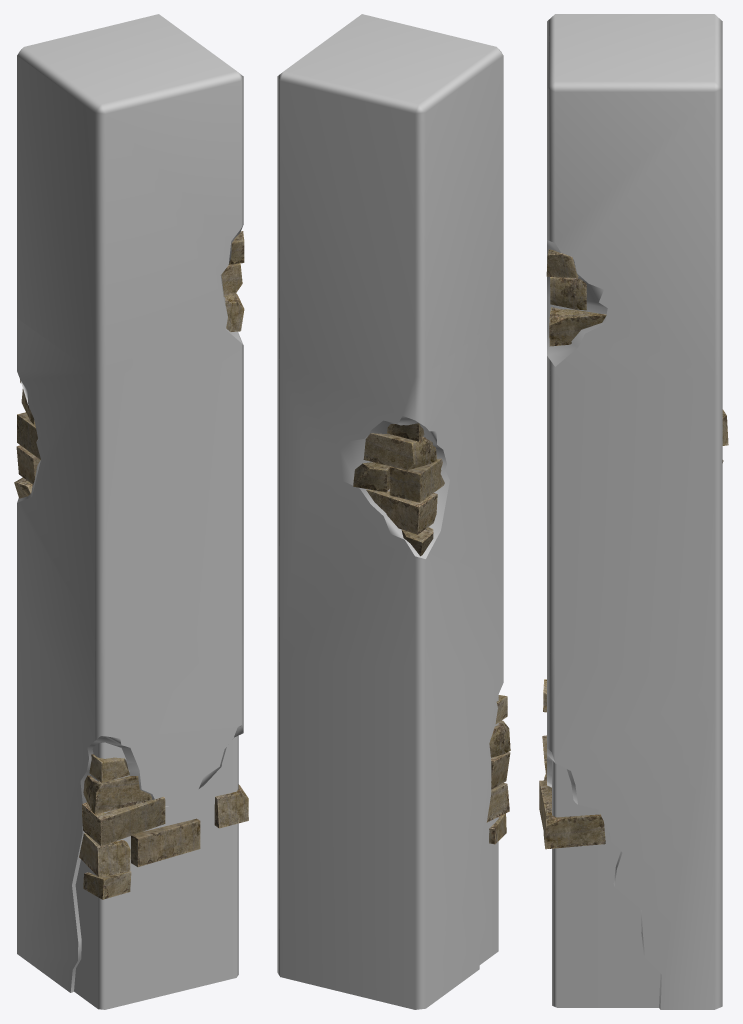
File: Wall1_el9.fbx
3 views of the same model, side by side, from view 1: azimuth 30°, elevation 25°; view 2: azimuth 150°, elevation 25°; view 3: azimuth 270°, elevation 25° (orthographic). The views are drawn at different scales.
Visible parts, largest first — view 1: polySurface202; view 2: polySurface202; view 3: polySurface202.
Part boxes in pixels (x1,y1,x2,y2): polySurface202: [14, 14, 248, 1009]; polySurface202: [277, 14, 510, 1009]; polySurface202: [539, 14, 728, 1009].
Size of the model in its own units: 0.6876 by 3.84 by 0.7107.
